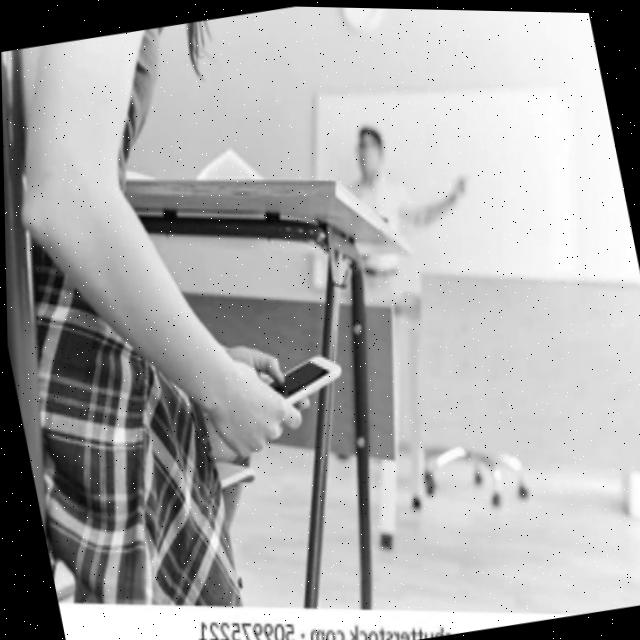phone: (253, 335, 351, 418)
